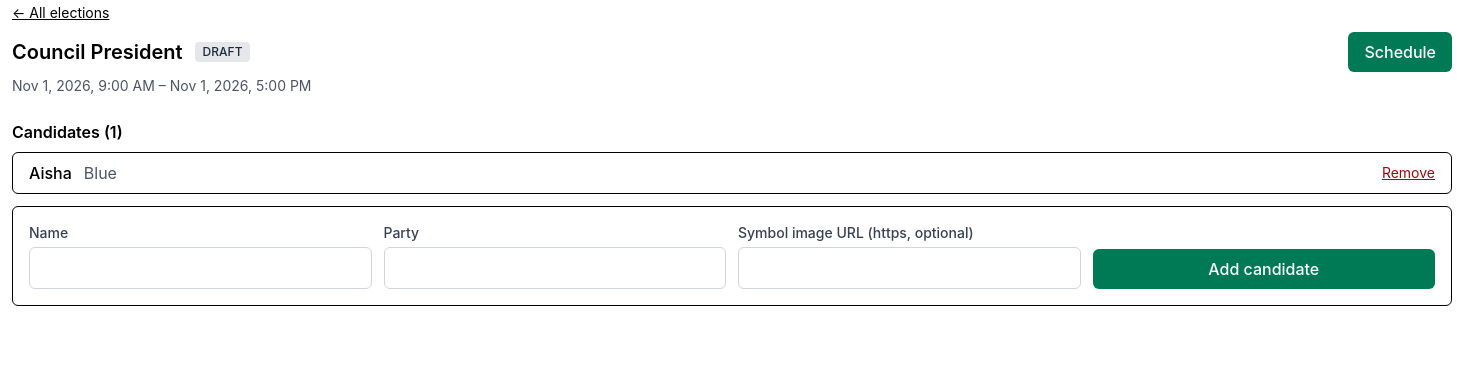
Test case: a refused transition shows the server reason
Click the button "Schedule": click(1400, 52) left=1348, top=32, right=1452, bottom=72
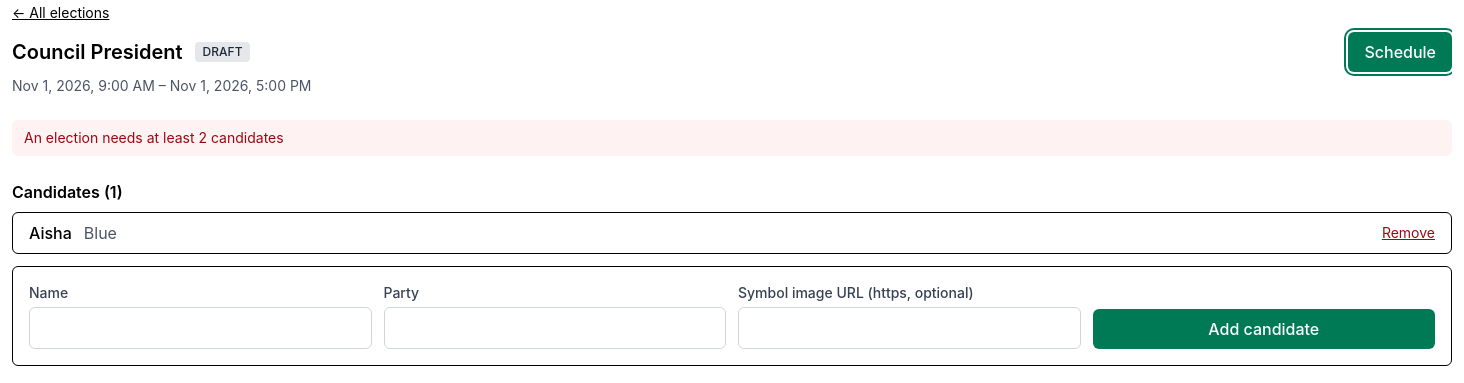
Result: the message shows "at least 2 candidates" at left=24, top=129, right=284, bottom=146
